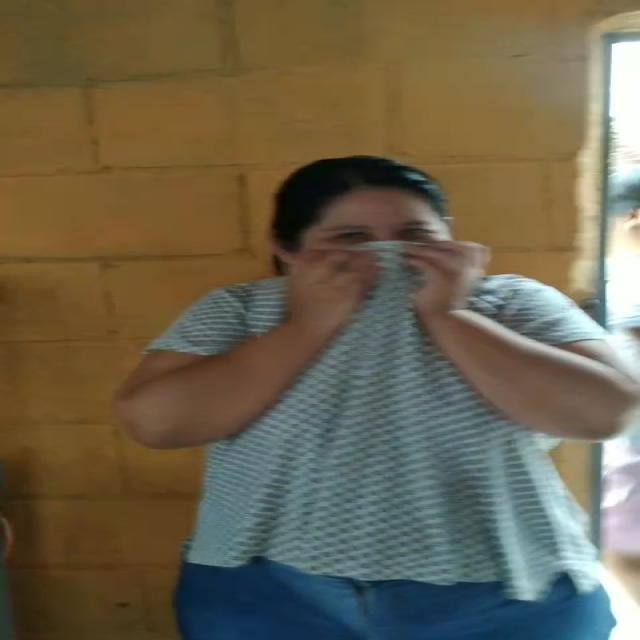8_ropa_rostro: (271, 239, 490, 371)
